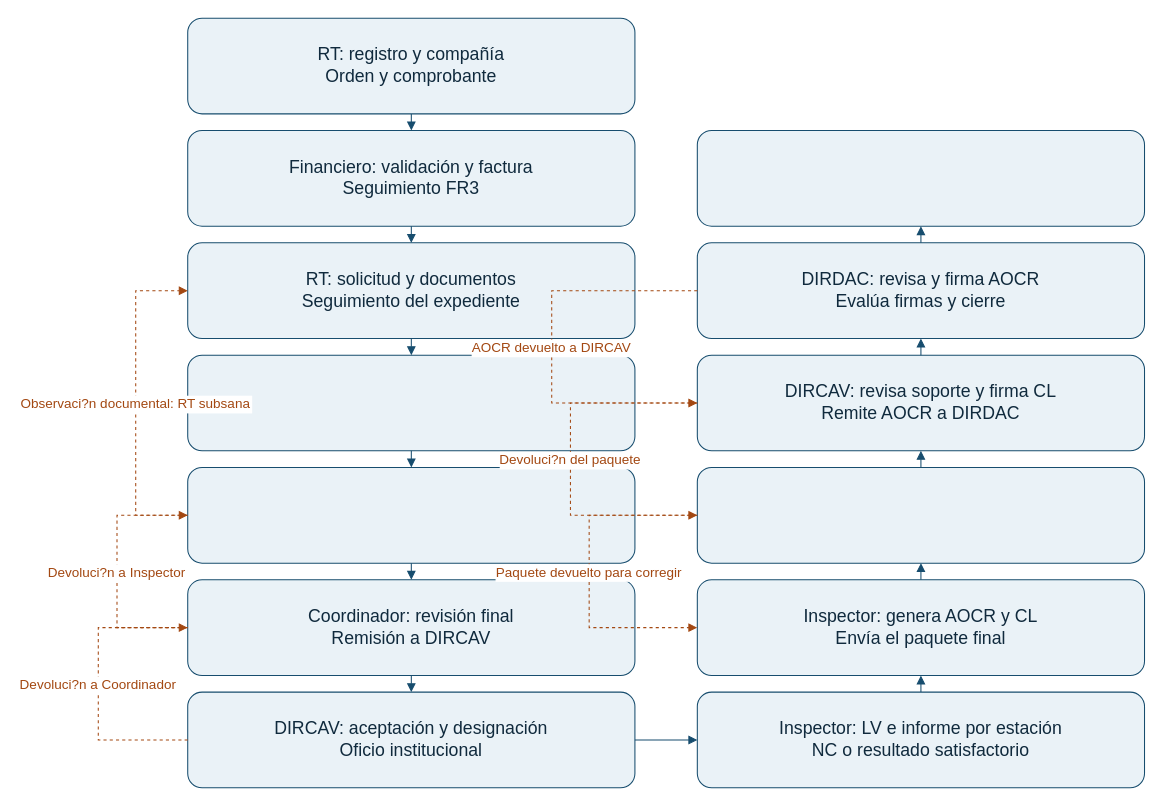
This 1163x806 diagram has some shape labels left out. The shapes that lost their labels are listed below. From the top down, each one's centre as x and y in pixels, then its label:
At point (920, 177): "RT: recibe y descarga Documentos finales autorizados".
At point (411, 402): "Coordinador: revisión y asignación preliminar de trabajo".
At point (411, 514): "Inspector: revisión documental Observaciones y subsanación".
At point (920, 514): "Coordinador: revisa el paquete Devuelve o remite a DIRCAV".
